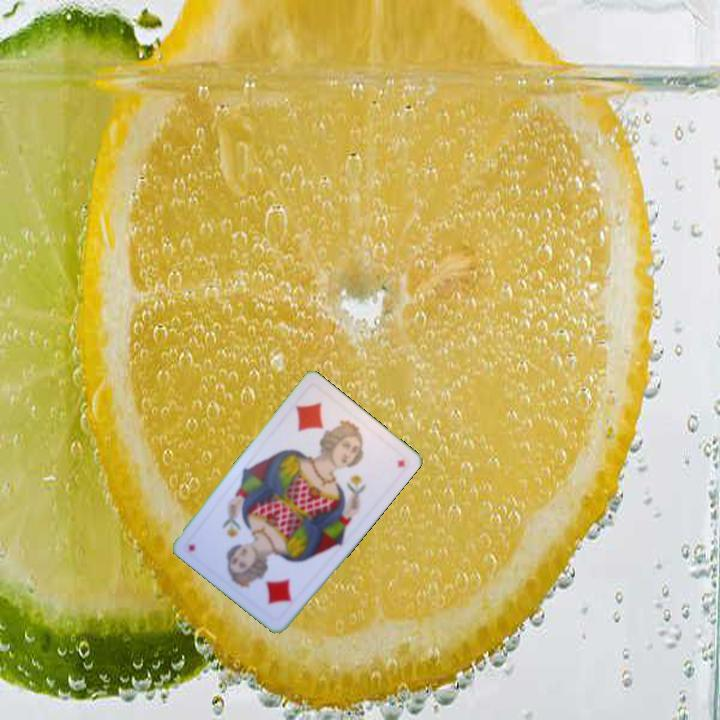d_q.png: (277, 382, 363, 467), (228, 540, 314, 624)
